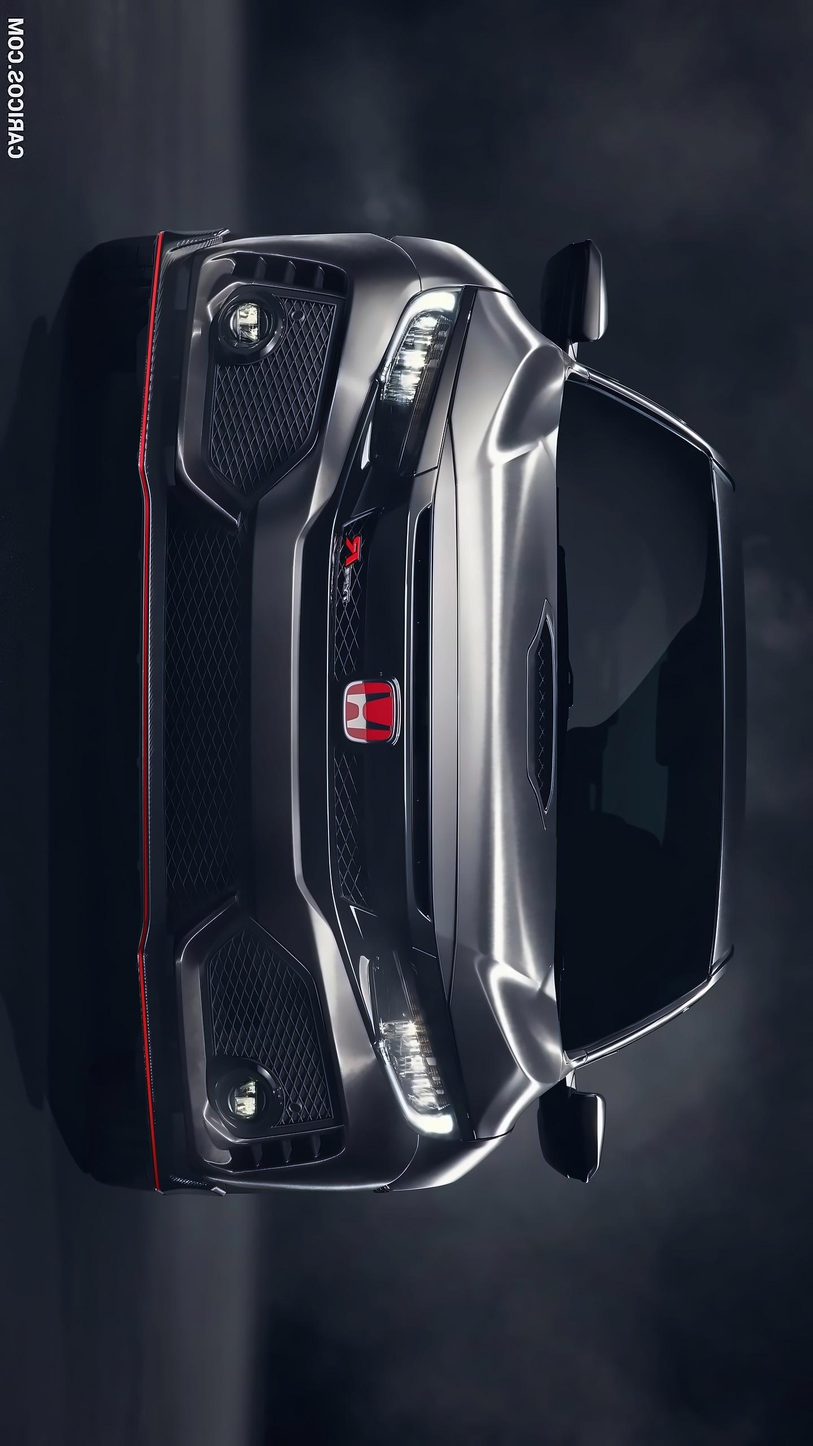Car hood: (421, 271, 582, 1126)
Front bumper: (99, 209, 426, 1192)
Headlight - -L-: (339, 896, 464, 1146)
Headlight - -R-: (333, 272, 465, 549)
Side mirror - -L-: (531, 1071, 612, 1192)
Side mirror - -R-: (531, 226, 614, 373)
